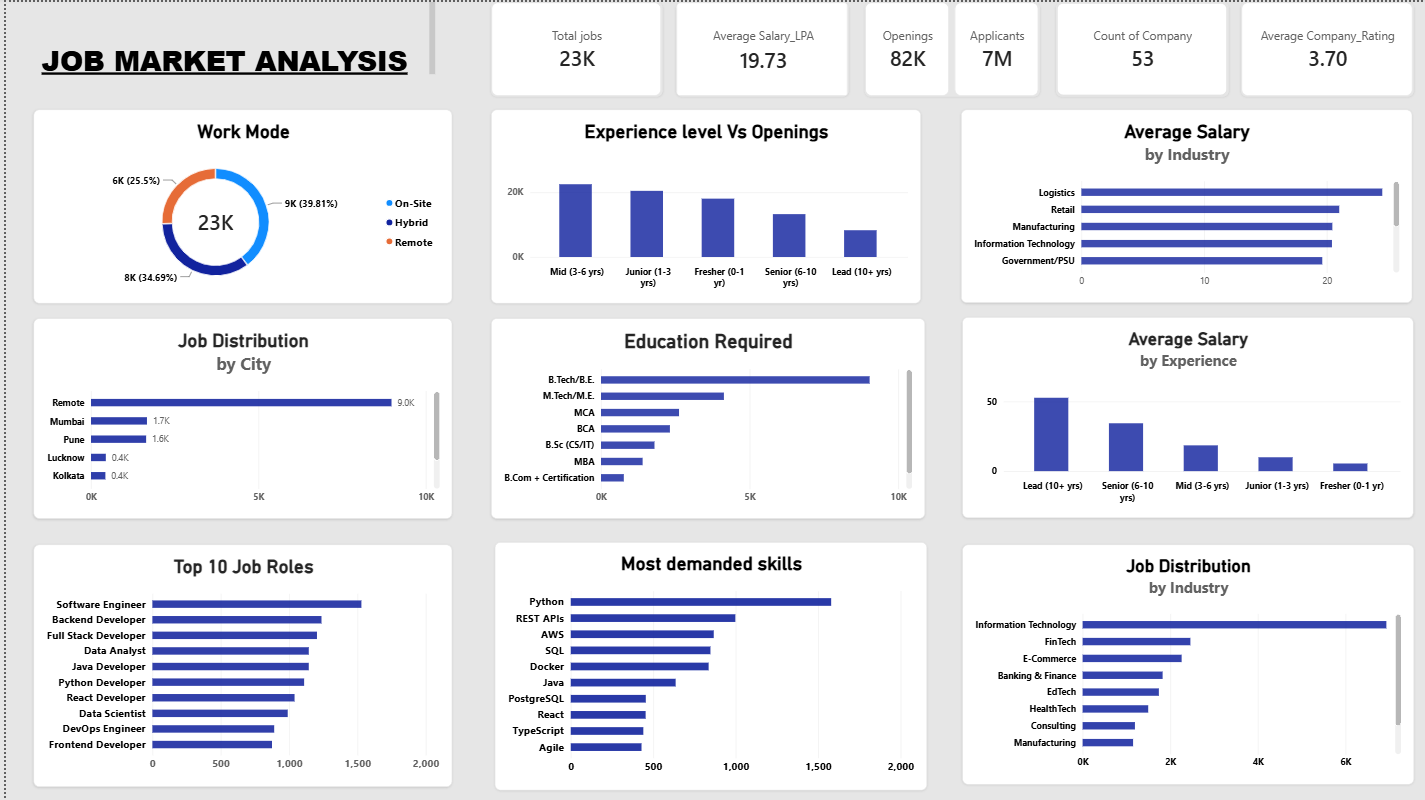

The page's visual inventory and layout, read from the dashboard file:
{"tool":"powerbi","page":{"name":"Page 1","canvas":[1920,1080],"ordinal":0},"visuals":[{"type":"cardVisual","fields":{"Data":["india_job_market_2024_2026.Total jobs"]},"box":[656.7,0,231.7,128.3],"z":0},{"type":"cardVisual","fields":{"Data":["india_job_market_2024_2026.Total openings","india_job_market_2024_2026.total applicants"]},"box":[1161.7,0,236.7,128.3],"z":1000},{"type":"cardVisual","fields":{"Data":["Avg(india_job_market_2024_2026.Salary_LPA)"]},"box":[906.7,0,233.3,128.3],"z":2000},{"type":"cardVisual","fields":{"Data":["Avg(india_job_market_2024_2026.Company_Rating)"]},"box":[1670,0,233.3,128.3],"z":3000},{"type":"barChart","fields":{"Category":["india_job_market_2024_2026.City"],"Y":["CountNonNull(india_job_market_2024_2026.Job_ID)"]},"box":[36.7,427.4,566.8,271.5],"z":4000},{"type":"clusteredColumnChart","title":"Experience level Vs Applicants","fields":{"Category":["india_job_market_2024_2026.Experience_Level"],"Y":["Sum(india_job_market_2024_2026.Applicants)"]},"box":[656.7,144.9,581.5,262.3],"z":5000},{"type":"donutChart","title":" Work Mode","fields":{"Category":["india_job_market_2024_2026.Work_Mode"],"Y":["india_job_market_2024_2026.Total jobs"]},"box":[36.7,144.9,566.8,262.3],"z":6000},{"type":"barChart","fields":{"Category":["india_job_market_2024_2026.Industry"],"Y":["Avg(india_job_market_2024_2026.Salary_LPA)"]},"box":[1293.3,146.7,610,261.7],"z":7000},{"type":"clusteredBarChart","fields":{"Category":["india_job_market_2024_2026.Industry"],"Y":["CountNonNull(india_job_market_2024_2026.Job_Title)"]},"box":[1293.1,733.7,610.8,324.7],"z":8000},{"type":"cardVisual","fields":{"Data":["Count(india_job_market_2024_2026.Company)"]},"box":[1420,0,233.3,128.3],"z":9000},{"type":"barChart","title":"Most demanded skills","fields":{"Category":["india_job_market_2024_2026.Skills_Required"],"Y":["CountNonNull(india_job_market_2024_2026.Skills_Required)"]},"box":[660.3,730,585.1,335.7],"z":10000},{"type":"barChart","title":"Top 10 Job Roles","fields":{"Category":["india_job_market_2024_2026.Job_Title"],"Y":["CountNonNull(india_job_market_2024_2026.Job_ID)"]},"box":[36.7,733.3,566.8,328.3],"z":11000},{"type":"columnChart","title":" Average Salary ","fields":{"Category":["india_job_market_2024_2026.Experience_Level"],"Y":["Avg(india_job_market_2024_2026.Salary_LPA)"]},"box":[1293.3,426.7,610,271.7],"z":12000},{"type":"barChart","title":"Education Required","fields":{"Category":["india_job_market_2024_2026.Education_Required"],"Y":["CountNonNull(india_job_market_2024_2026.Job_ID)"]},"box":[656.7,427.4,587,271.5],"z":13000},{"type":"textbox","box":[10.5,0,570.4,101.2],"z":16000}]}

Visuals, with their boxes in screenshot pixels (x1, y1, x2, y2), scaled from the page's 1920x1080 canvas onto the 1425x800 screenshot:
cardVisual - india_job_market_2024_2026.Total jobs: <box>487,0,659,95</box>
cardVisual - india_job_market_2024_2026.Total openings x india_job_market_2024_2026.total applicants: <box>862,0,1038,95</box>
cardVisual - Avg(india_job_market_2024_2026.Salary_LPA): <box>673,0,846,95</box>
cardVisual - Avg(india_job_market_2024_2026.Company_Rating): <box>1239,0,1413,95</box>
barChart - india_job_market_2024_2026.City x CountNonNull(india_job_market_2024_2026.Job_ID): <box>27,317,448,518</box>
"Experience level Vs Applicants" clusteredColumnChart: <box>487,107,919,302</box>
" Work Mode" donutChart: <box>27,107,448,302</box>
barChart - india_job_market_2024_2026.Industry x Avg(india_job_market_2024_2026.Salary_LPA): <box>960,109,1413,303</box>
clusteredBarChart - india_job_market_2024_2026.Industry x CountNonNull(india_job_market_2024_2026.Job_Title): <box>960,543,1413,784</box>
cardVisual - Count(india_job_market_2024_2026.Company): <box>1054,0,1227,95</box>
"Most demanded skills" barChart: <box>490,541,924,789</box>
"Top 10 Job Roles" barChart: <box>27,543,448,786</box>
" Average Salary " columnChart: <box>960,316,1413,517</box>
"Education Required" barChart: <box>487,317,923,518</box>
textbox: <box>8,0,431,75</box>
